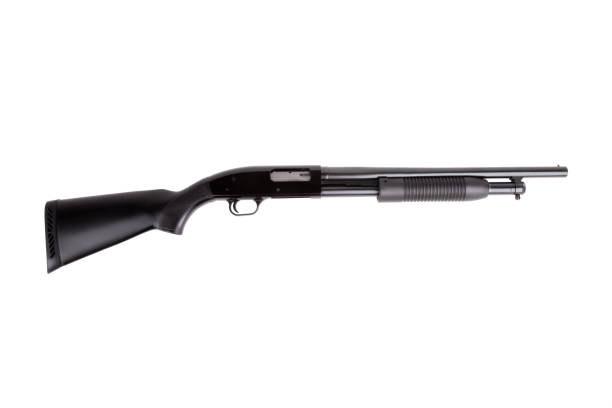shotgun: (43, 163, 573, 261)
